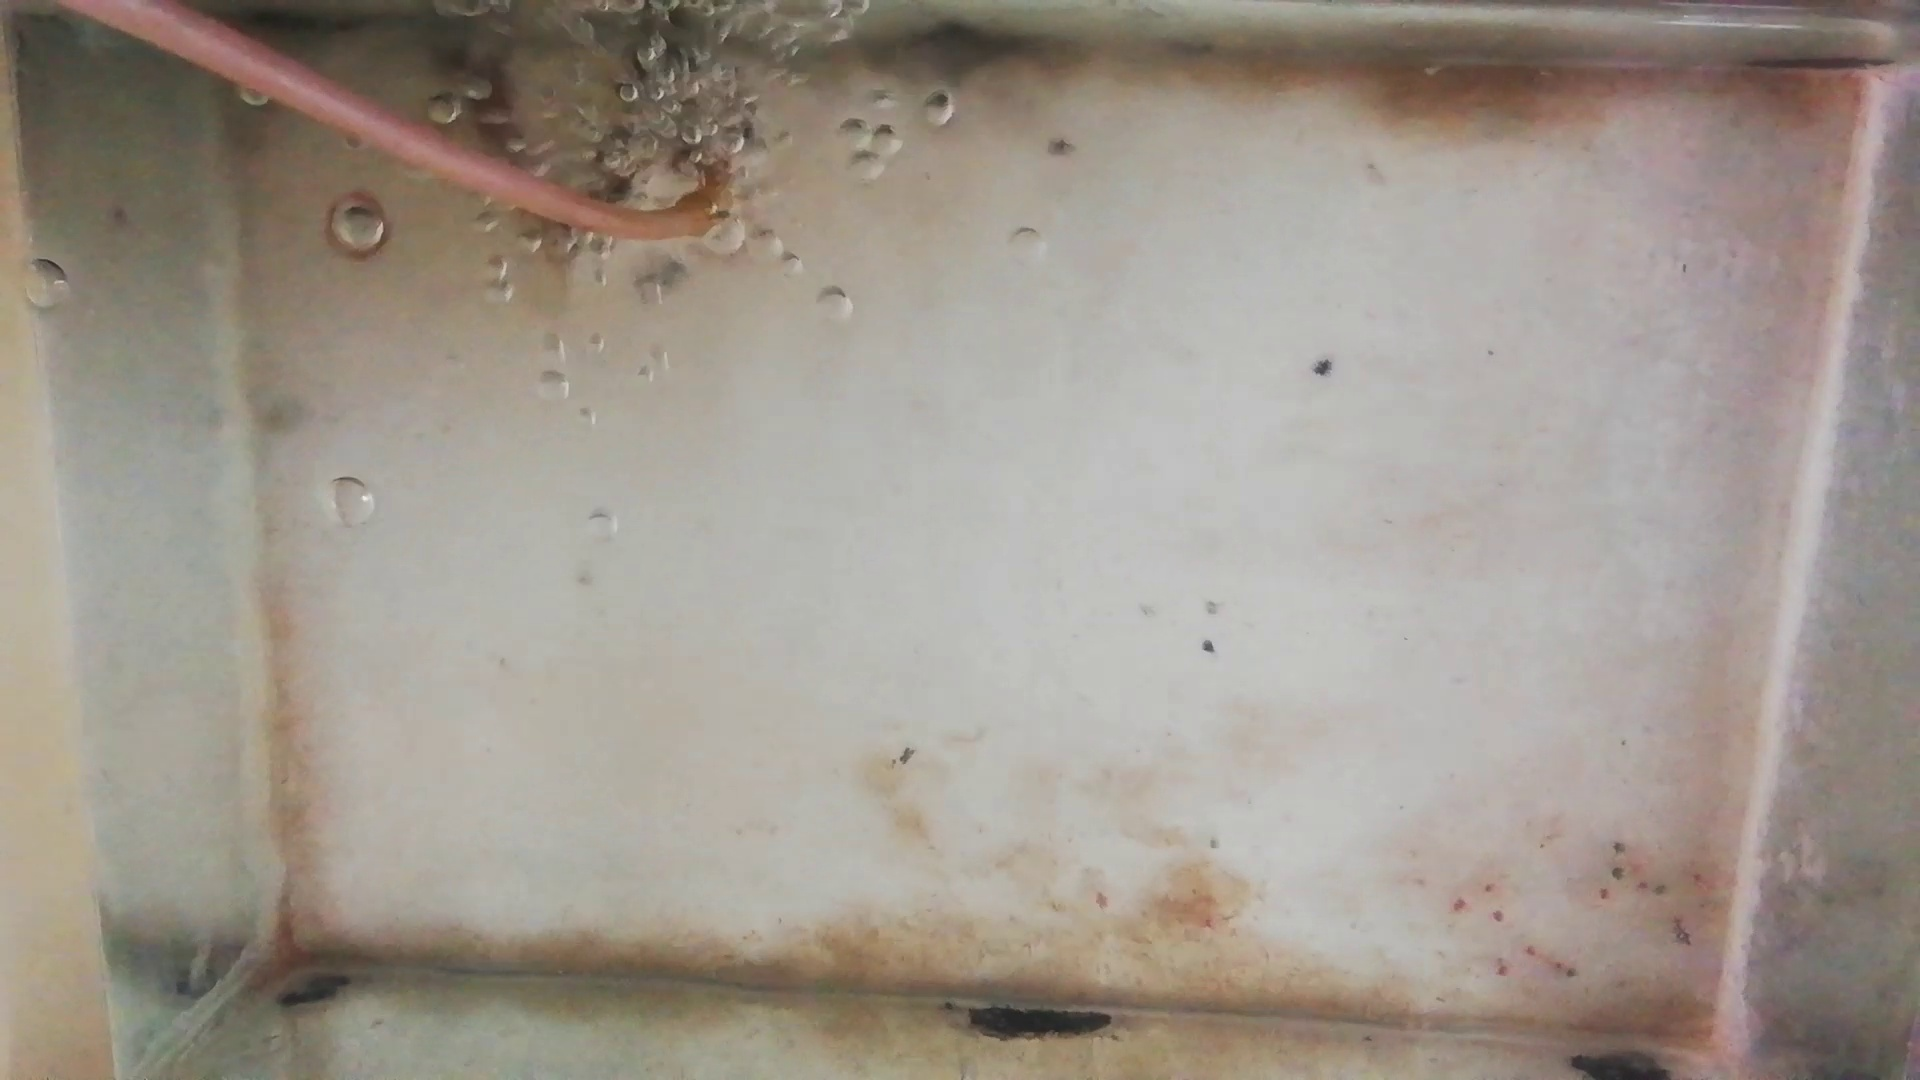fish: (442, 26, 550, 287), (597, 54, 646, 193)
